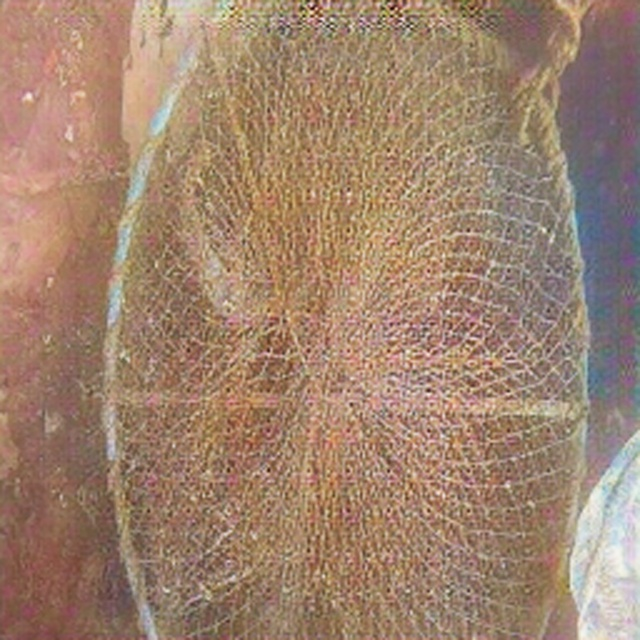mine: (102, 0, 586, 639)
